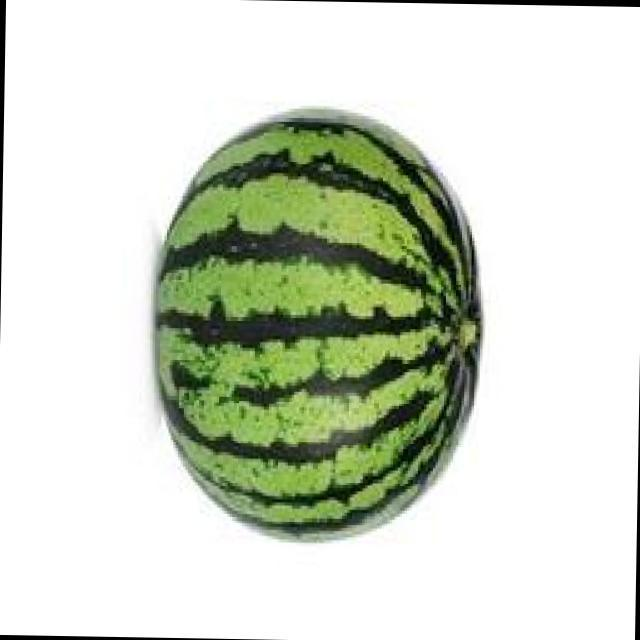watermelon: (155, 111, 481, 537)
